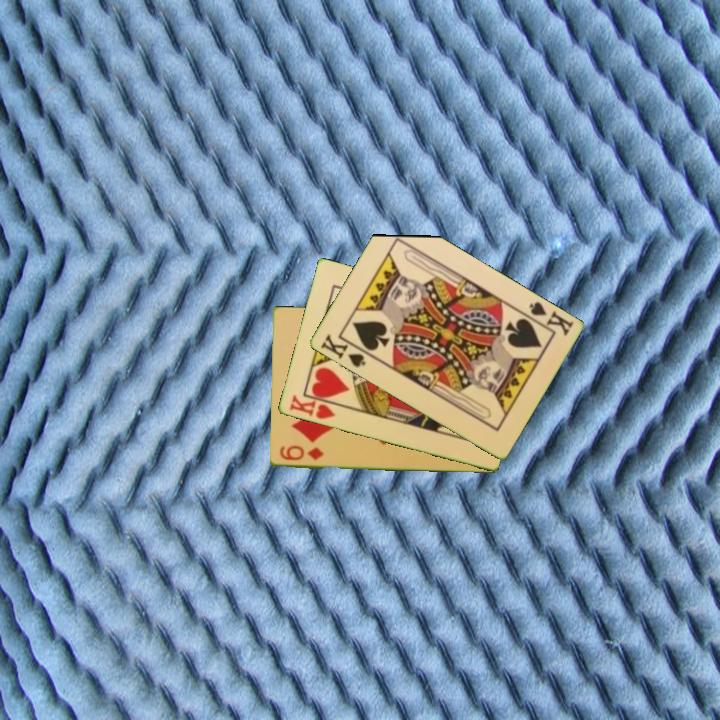6d: (276, 442, 326, 463)
Kh: (286, 392, 342, 422)
Ks: (520, 298, 576, 339), (317, 330, 372, 371)
